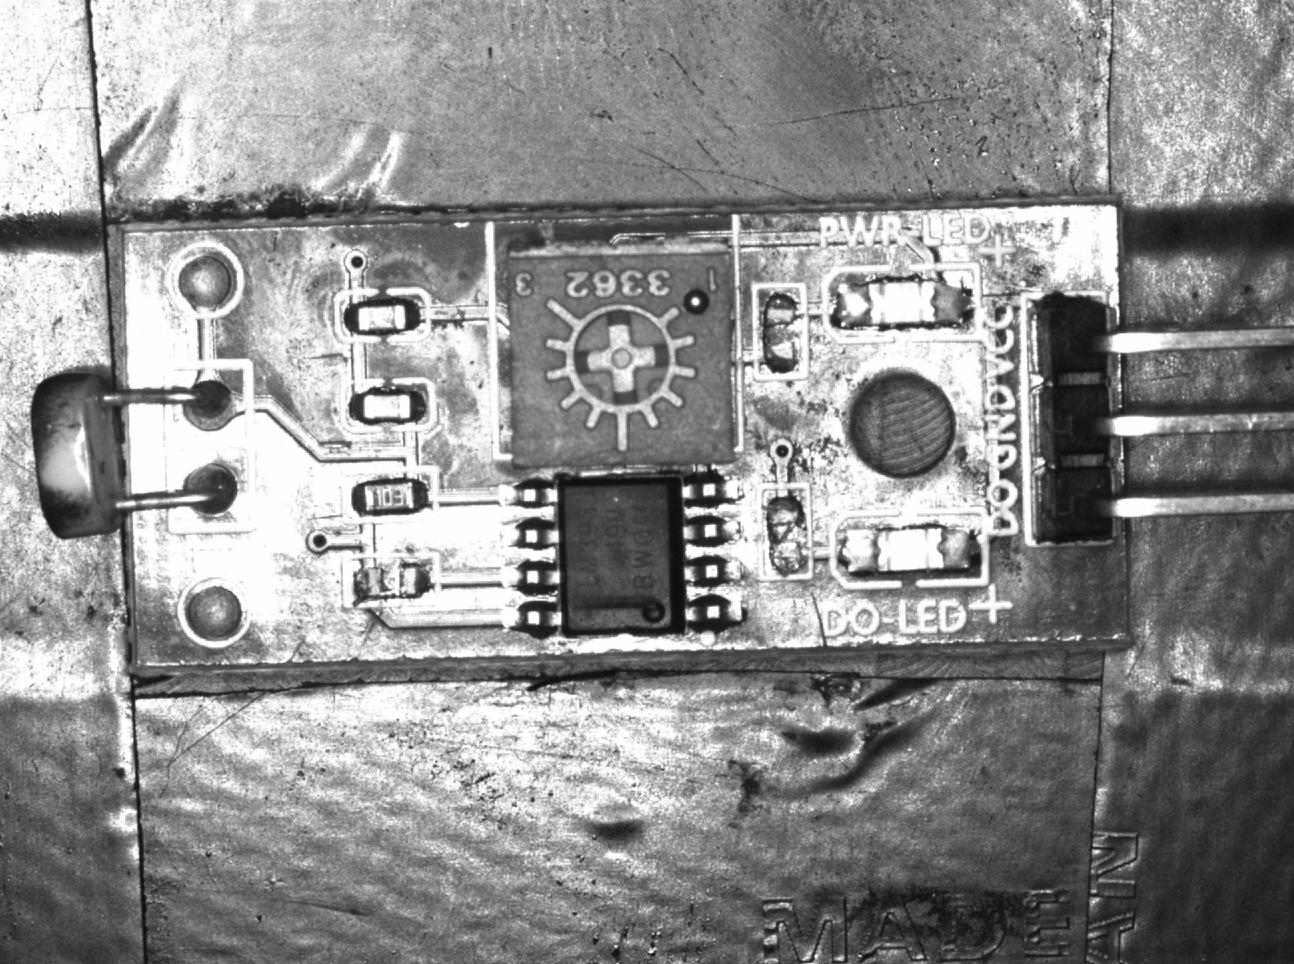miss: (754, 282, 808, 380), (758, 483, 810, 579), (343, 556, 440, 605)
ok: (340, 381, 431, 435), (344, 469, 436, 521), (336, 291, 429, 340)
